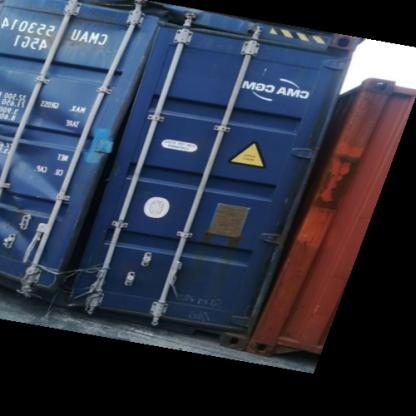Damage: (0, 90, 115, 304), (100, 1, 210, 37), (195, 225, 246, 262)
